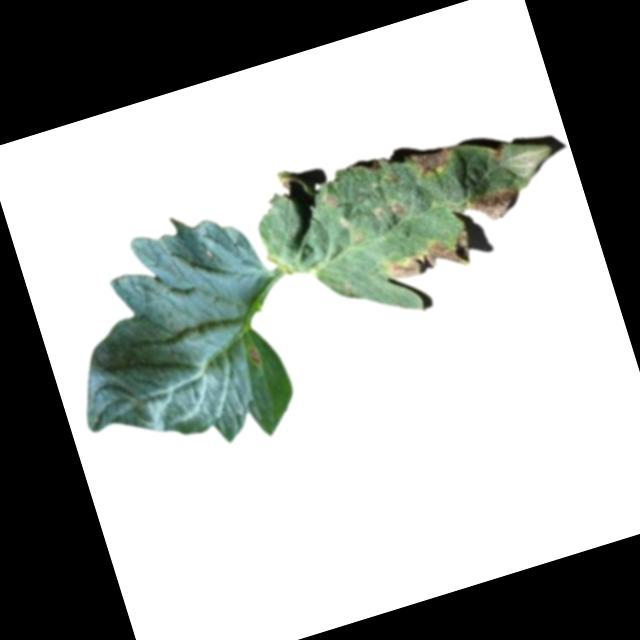Early_blight: (383, 231, 477, 289), (462, 180, 524, 227), (405, 141, 458, 182), (391, 197, 410, 218), (246, 345, 264, 367), (489, 144, 506, 162)
